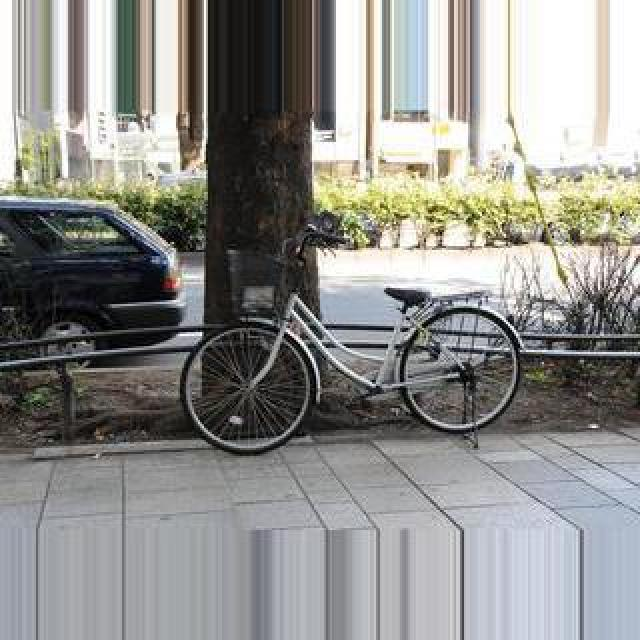Bus-Bike: (0, 196, 184, 358)
Person: (186, 222, 528, 458)
